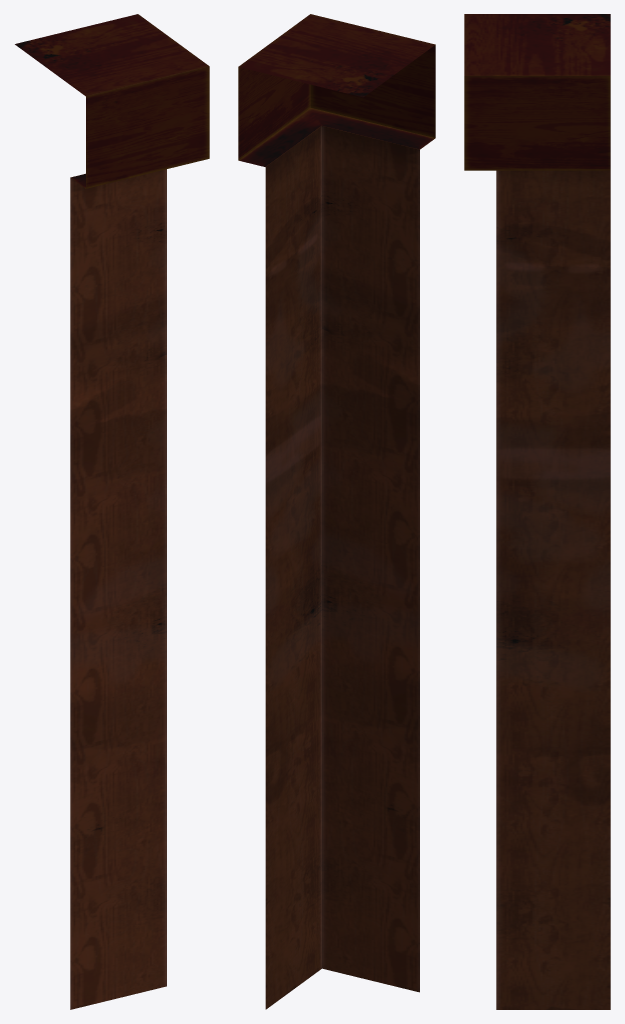
File: poto.fbx
3 renders of one model, left to right at view 1: azimuth 30°, elevation 25°; view 2: azimuth 150°, elevation 25°; view 3: azimuth 270°, elevation 25°, orthographic. The views are drawn at different scales.
Parts seen in each view (by area): view 1: wall_joint1; view 2: wall_joint1; view 3: wall_joint1.
Boxes of the visible parts, <box> form: wall_joint1: <box>15,14,209,1009</box>; wall_joint1: <box>238,14,435,1009</box>; wall_joint1: <box>464,14,610,1009</box>.
Size of the model in its own units: 106 by 754 by 106.
1 material, 1 textured.
